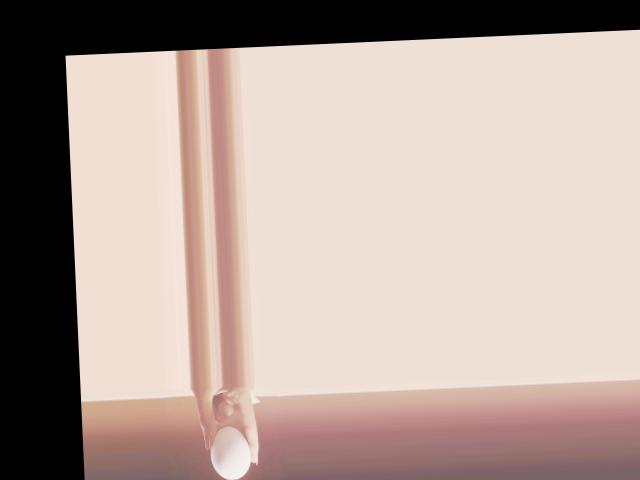egg: (208, 424, 251, 480)
